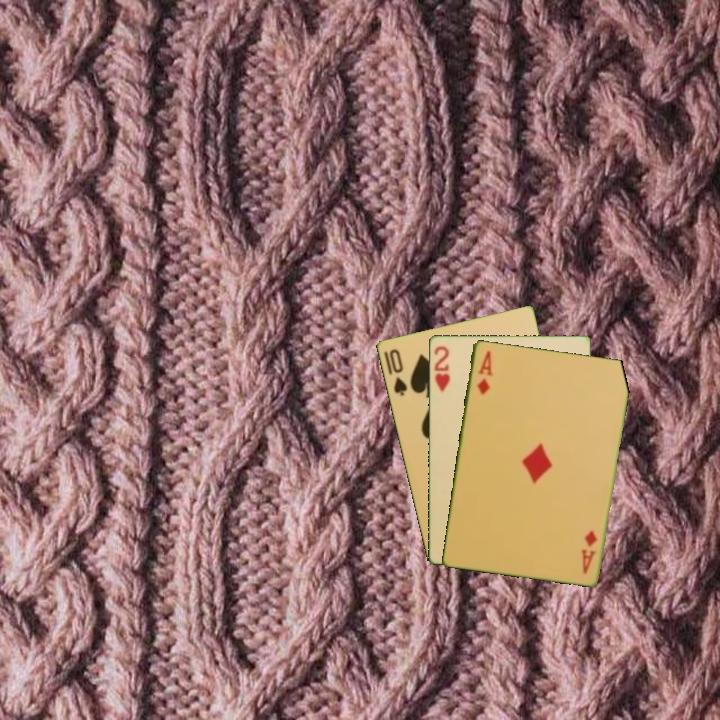10s: (385, 345, 410, 399)
2h: (430, 342, 452, 394)
Ad: (578, 526, 600, 576), (473, 347, 494, 397)
